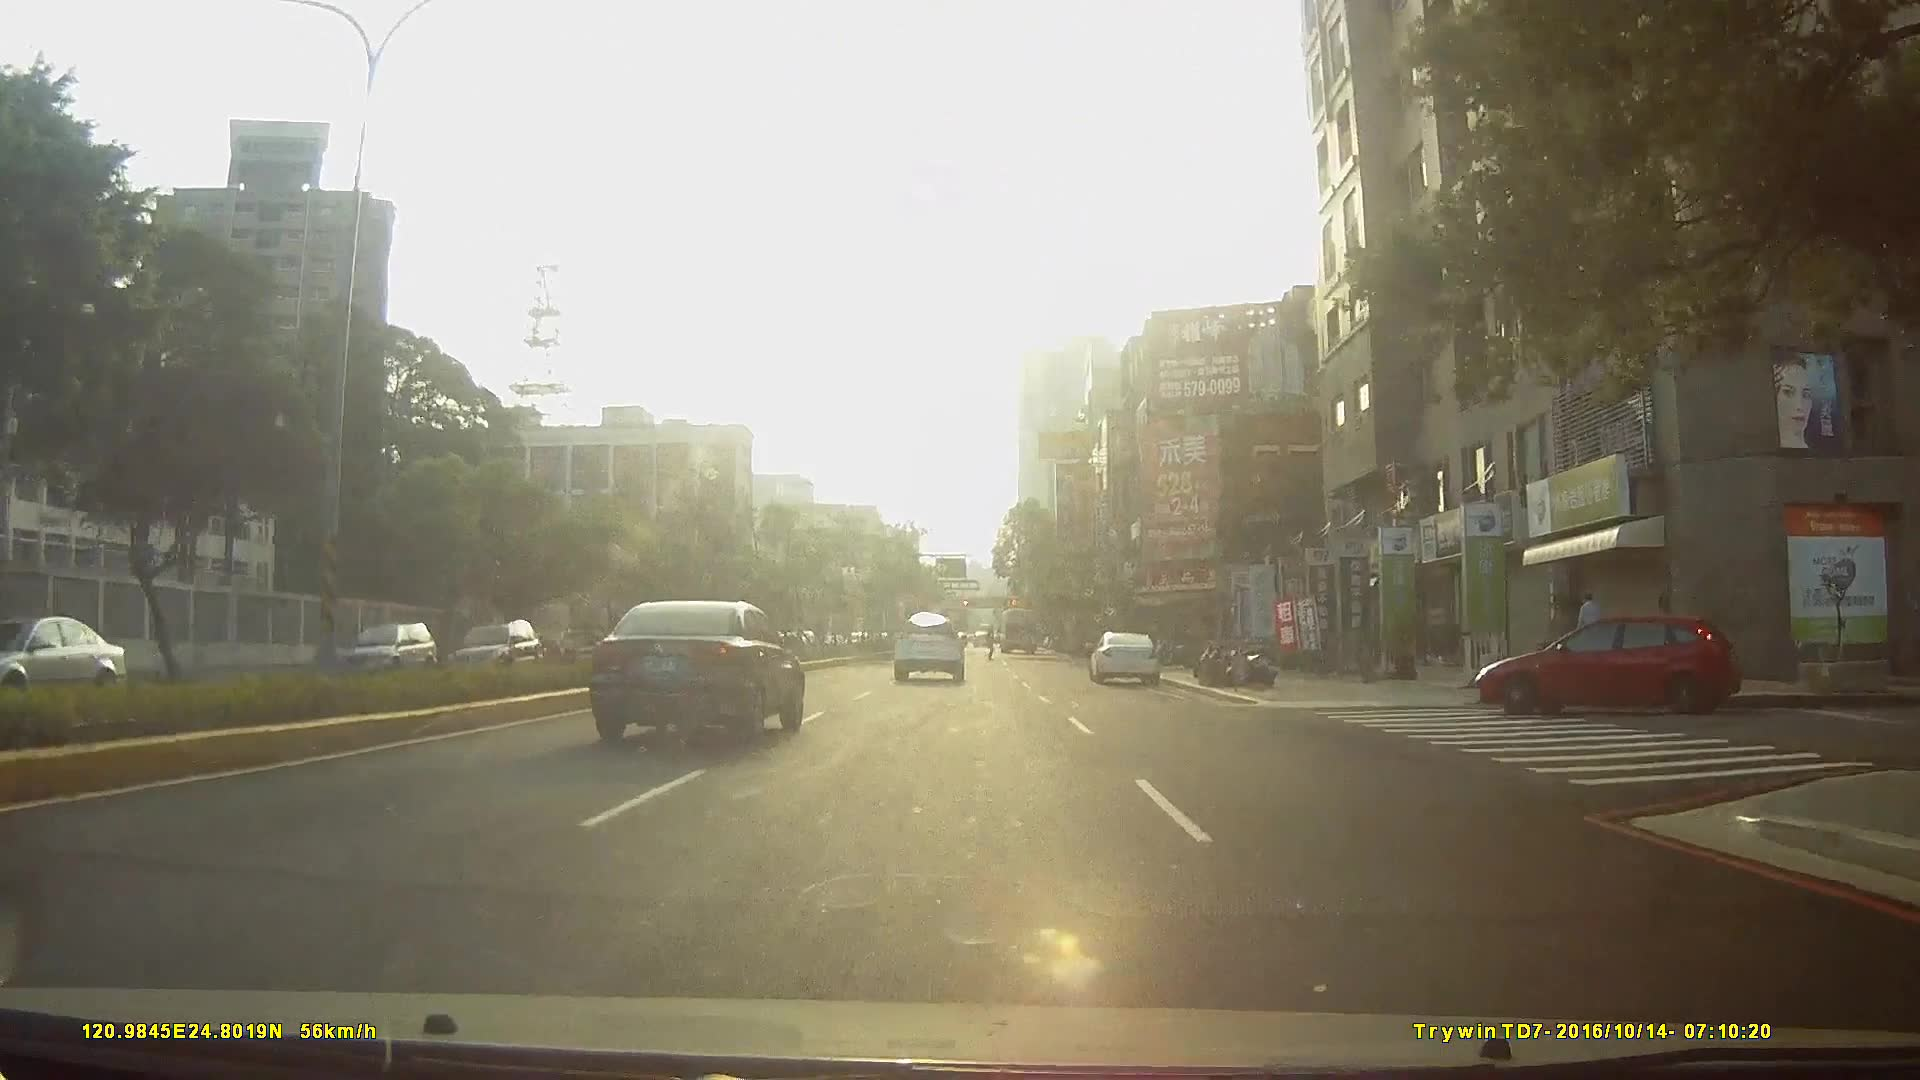pedestrian: (1574, 591, 1604, 670)
vehicle: (1467, 605, 1753, 719), (592, 595, 807, 741), (1, 612, 149, 704), (333, 611, 440, 675), (432, 618, 534, 679), (891, 609, 966, 680), (1088, 628, 1164, 683), (996, 602, 1040, 651), (569, 631, 618, 664)
